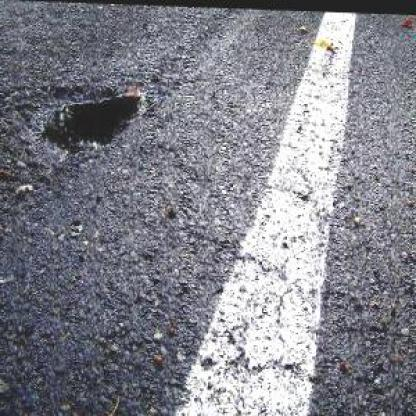pothole: (24, 74, 150, 178)
